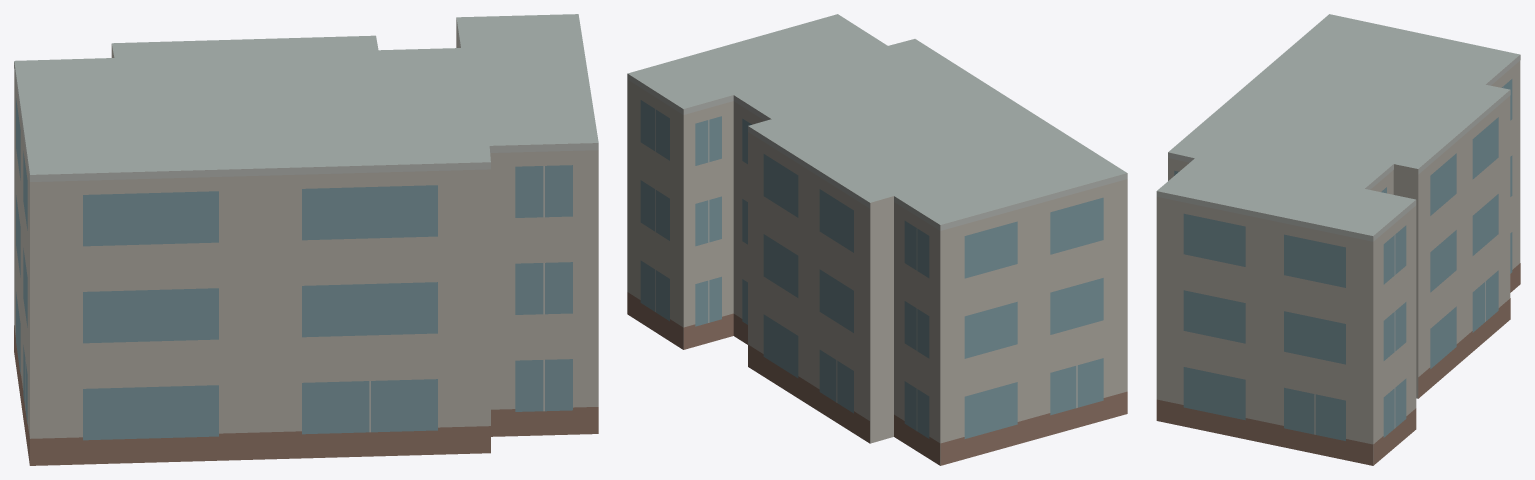
File: survey-upis-32524634.glb
3 views of the same model, side by side, from view 1: azimuth 30°, elevation 25°; view 2: azimuth 150°, elevation 25°; view 3: azimuth 270°, elevation 25° (orthographic). The views are drawn at different scales.
Parts seen in each view (by area): view 1: survey-upis-32524634.tmp; view 2: survey-upis-32524634.tmp; view 3: survey-upis-32524634.tmp.
Part boxes in pixels (<box>): survey-upis-32524634.tmp: <box>14,14,598,465</box>; survey-upis-32524634.tmp: <box>627,14,1127,465</box>; survey-upis-32524634.tmp: <box>1156,14,1520,465</box>.
Size of the model in its own units: 20.54 by 9.9 by 14.22.
